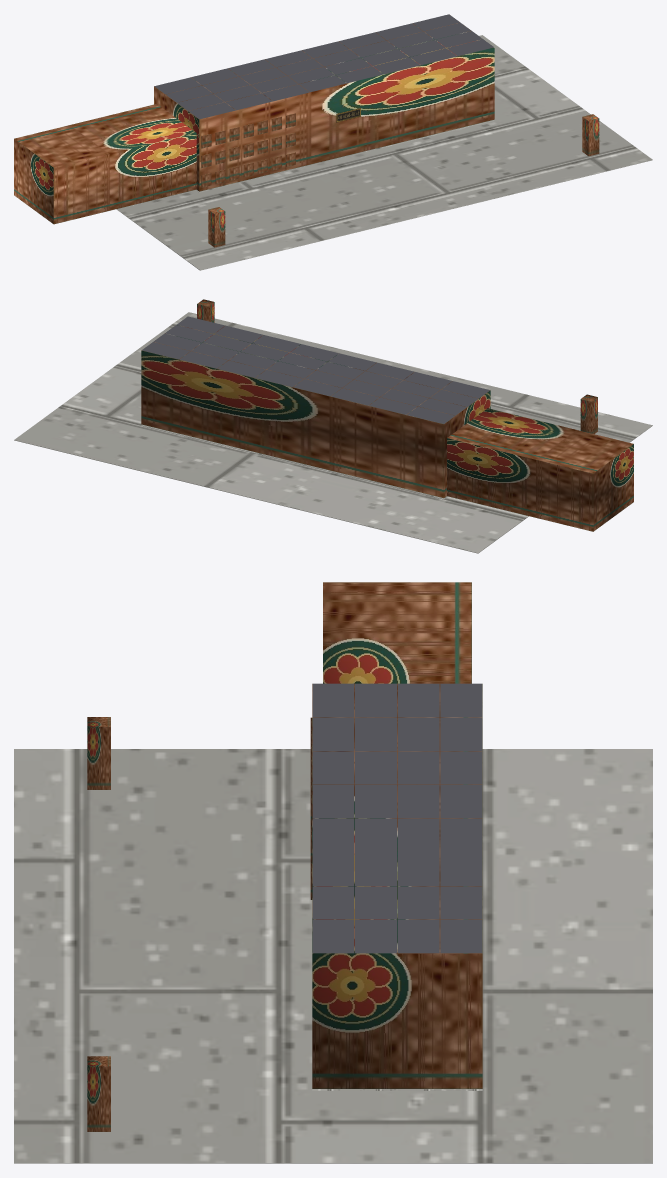
3 views of the same model, one above another, from view 1: azimuth 30°, elevation 25°; view 2: azimuth 150°, elevation 25°; view 3: azimuth 270°, elevation 25° (orthographic). The views are drawn at different scales.
Visible parts, largest first — view 1: 11680_01_06253_020_01_L2__base, 11680_01_06253_020_02_L2__body, 11680_01_06253_020_03_L2__roof, 11680_01_06253_020_05_L2__openings, 11680_01_06253_020_06_L2__green; view 2: 11680_01_06253_020_02_L2__body, 11680_01_06253_020_01_L2__base, 11680_01_06253_020_03_L2__roof, 11680_01_06253_020_06_L2__green; view 3: 11680_01_06253_020_01_L2__base, 11680_01_06253_020_03_L2__roof, 11680_01_06253_020_02_L2__body, 11680_01_06253_020_06_L2__green.
Part boxes in pixels (box(x1,y1,x2,y2)): 11680_01_06253_020_01_L2__base: box(116, 35, 652, 270); 11680_01_06253_020_02_L2__body: box(14, 22, 494, 224); 11680_01_06253_020_03_L2__roof: box(154, 14, 493, 119); 11680_01_06253_020_05_L2__openings: box(201, 113, 295, 187); 11680_01_06253_020_06_L2__green: box(208, 114, 599, 247); 11680_01_06253_020_02_L2__body: box(141, 325, 633, 531); 11680_01_06253_020_01_L2__base: box(14, 312, 652, 553); 11680_01_06253_020_03_L2__roof: box(142, 316, 489, 423); 11680_01_06253_020_06_L2__green: box(197, 299, 597, 434); 11680_01_06253_020_01_L2__base: box(14, 749, 652, 1163); 11680_01_06253_020_03_L2__roof: box(312, 683, 482, 953); 11680_01_06253_020_02_L2__body: box(312, 582, 482, 1088); 11680_01_06253_020_06_L2__green: box(87, 717, 110, 1131).
Bounding box in the file's own units: 105 × 14.32 × 60.
Materials: 5 (5 with a texture image).
